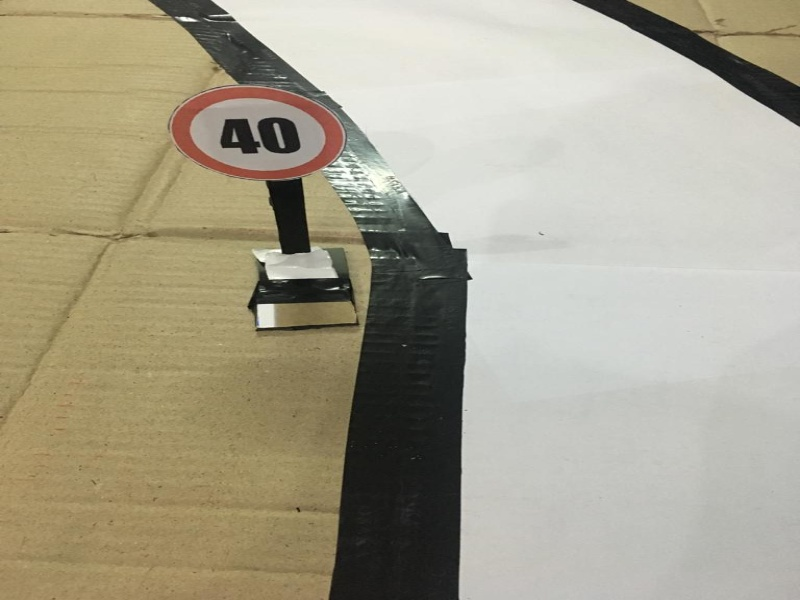Speed Limit 40: (157, 77, 348, 184)
